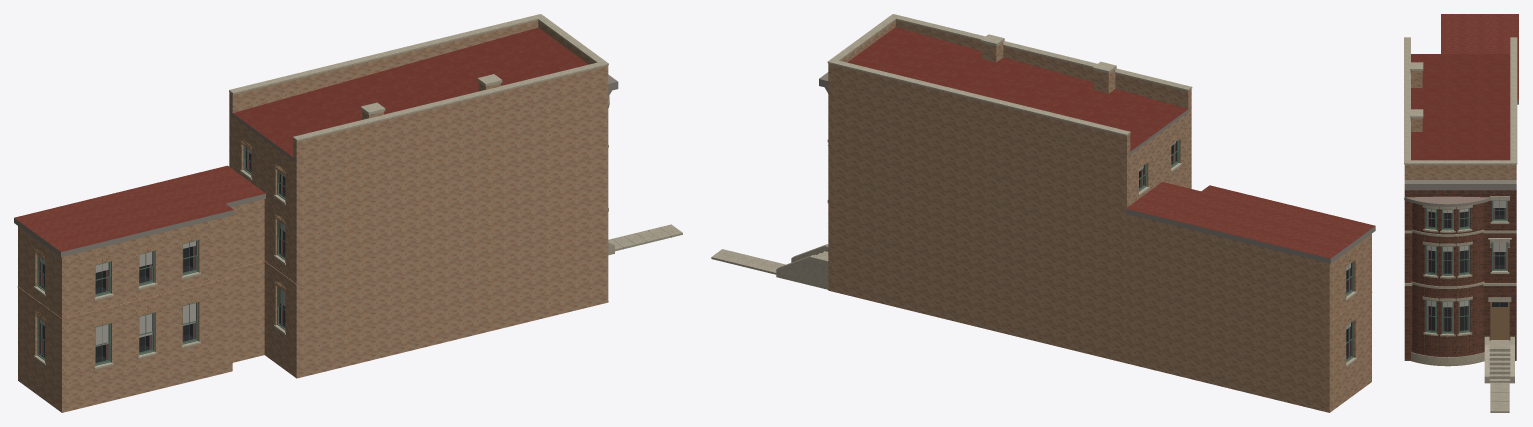
The model's file is house_2005_prairie__as_mapped_1904.glb.
3 renders of one model, left to right at view 1: azimuth 30°, elevation 25°; view 2: azimuth 150°, elevation 25°; view 3: azimuth 270°, elevation 25°, orthographic. The views are drawn at different scales.
Visible parts, largest first — view 1: house_2005_prairie__as_mapped_1904; view 2: house_2005_prairie__as_mapped_1904; view 3: house_2005_prairie__as_mapped_1904.
Boxes of the visible parts, x1=… form: house_2005_prairie__as_mapped_1904: x1=14, y1=14, x2=682, y2=412; house_2005_prairie__as_mapped_1904: x1=711, y1=14, x2=1375, y2=412; house_2005_prairie__as_mapped_1904: x1=1404, y1=14, x2=1518, y2=412.
Size of the model in its own units: 39.02 by 14.09 by 7.19.
Materials: 22 (12 with a texture image).
